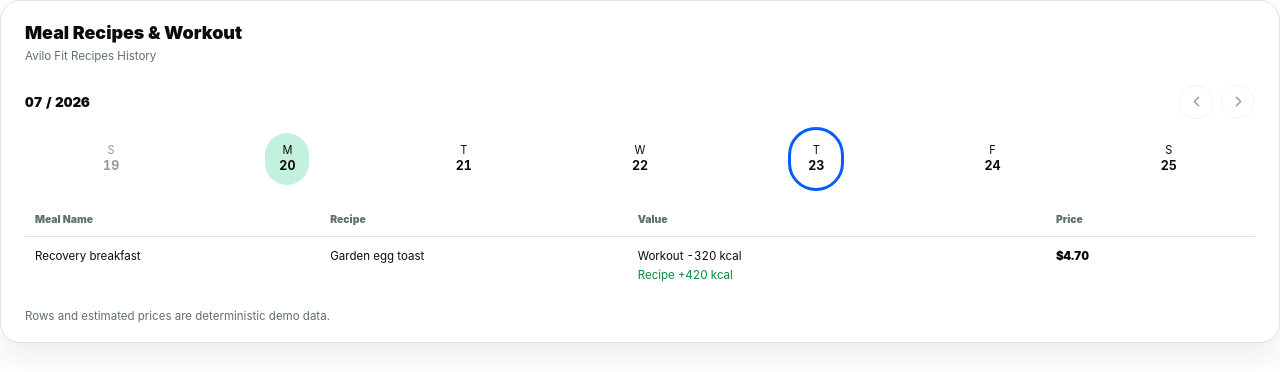
Test case: meal and workout history › supports native button keyboard activation for available dates
Press Enter in the button named "Thursday, July 23, 2026", box [794,133,838,185]
Click the button named "Thursday, July 23, 2026".
click(816, 159)  # box [794,133,838,185]
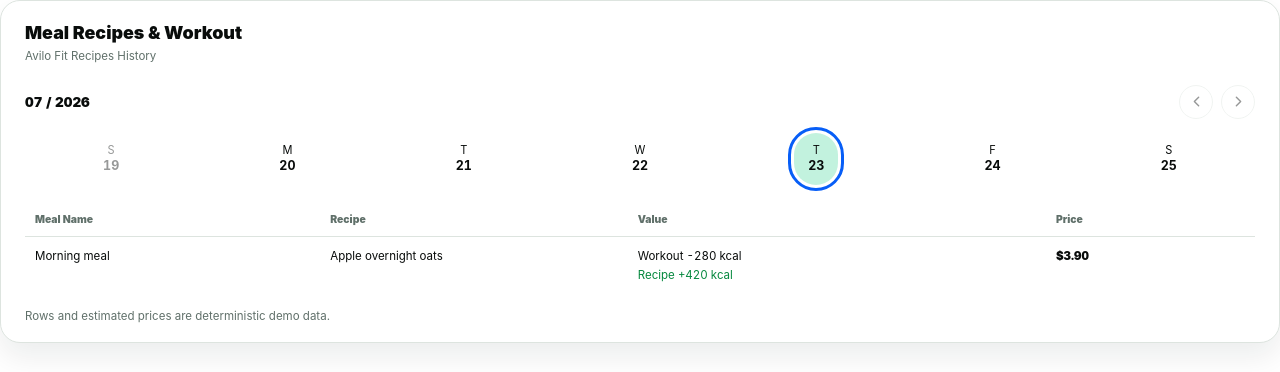
Now the text "Morning meal" is shown, box [25,238,320,296]
Now the text "Apple overnight oats" is shown, box [320,238,628,296]
